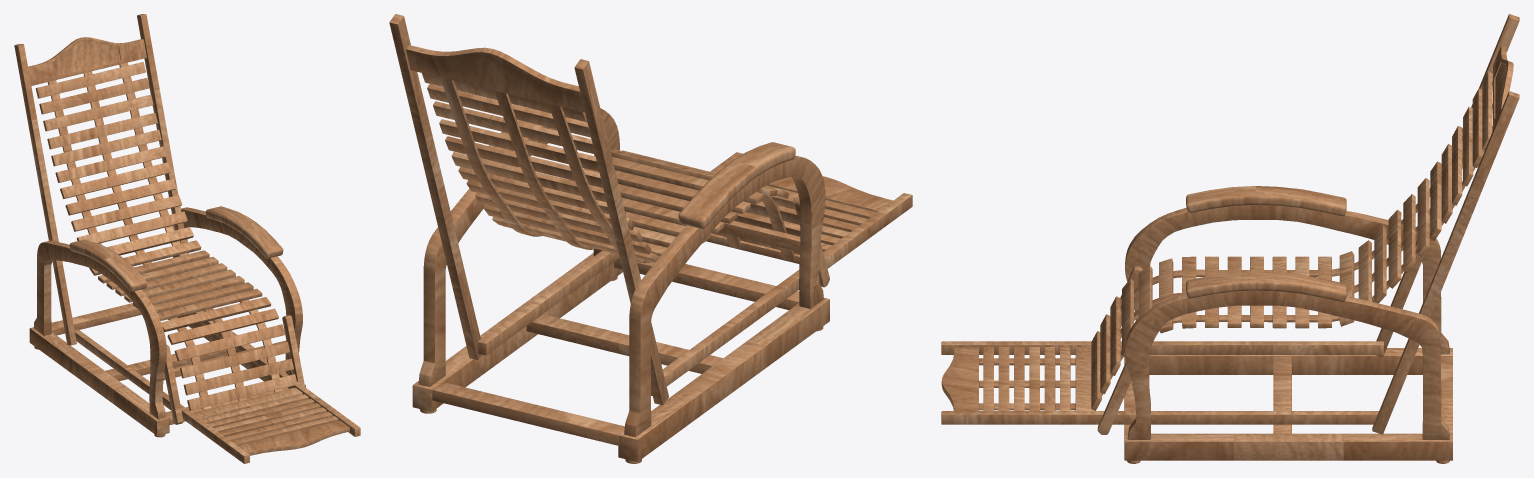
The model's file is Voltaire.glb.
The picture shows the model from 3 angles, left to right: view 1: azimuth 30°, elevation 25°; view 2: azimuth 150°, elevation 25°; view 3: azimuth 270°, elevation 25°; orthographic projection. The views are drawn at different scales.
Visible parts, largest first — view 1: wooden chair_chair_texure_0; view 2: wooden chair_chair_texure_0; view 3: wooden chair_chair_texure_0.
Boxes of the visible parts, x1,y1,x2,y2 form: wooden chair_chair_texure_0: [14, 14, 360, 463]; wooden chair_chair_texure_0: [389, 14, 912, 463]; wooden chair_chair_texure_0: [941, 14, 1519, 463].
Size of the model in its own units: 80.37 by 141 by 203.
1 material, 1 textured.
